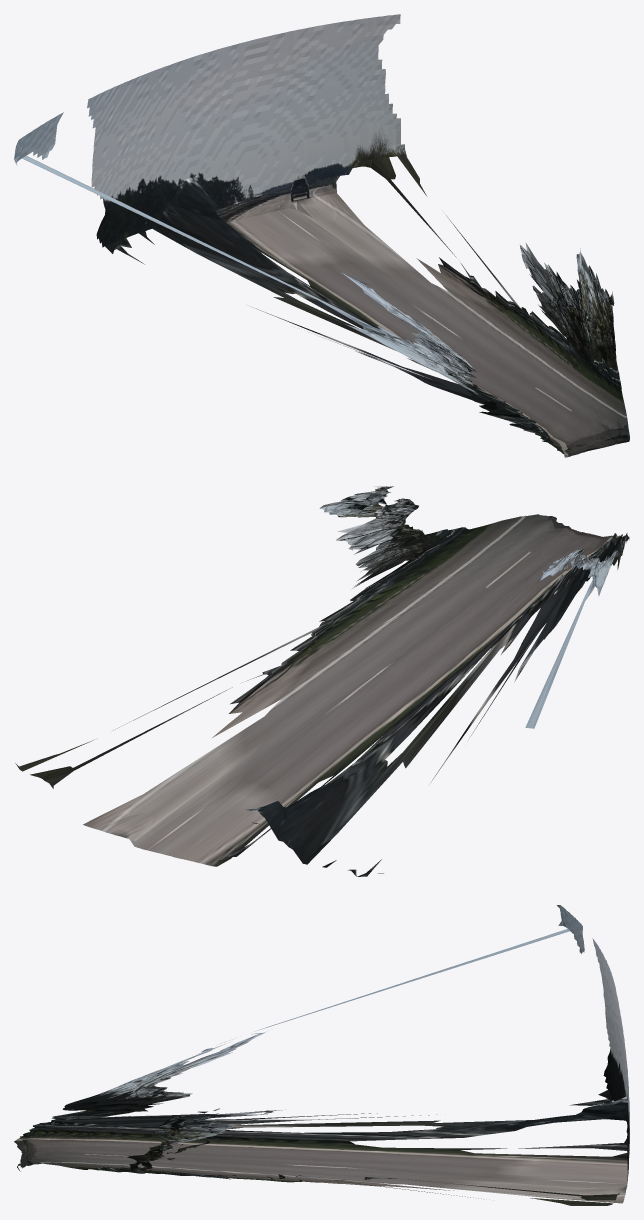
3 views of the same model, one above another, from view 1: azimuth 30°, elevation 25°; view 2: azimuth 150°, elevation 25°; view 3: azimuth 270°, elevation 25° (orthographic). The views are drawn at different scales.
Visible parts, largest first — view 1: defaultobject; view 2: defaultobject; view 3: defaultobject.
Boxes of the visible parts, x1=… form: defaultobject: x1=14, y1=14, x2=629, y2=457; defaultobject: x1=15, y1=486, x2=629, y2=876; defaultobject: x1=14, y1=905, x2=629, y2=1205.
Bounding box in the file's own units: 31.04 × 12.86 × 44.61.
Materials: 1 (1 with a texture image).
